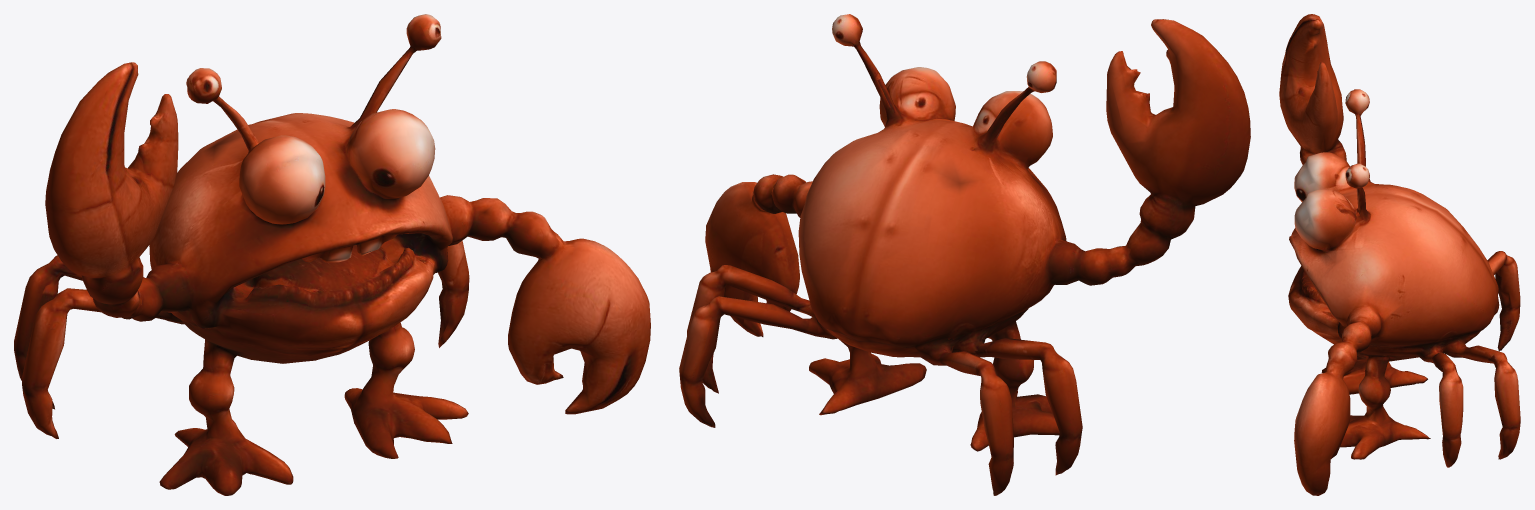
File: crab.glb
3 renders of one model, left to right at view 1: azimuth 30°, elevation 25°; view 2: azimuth 150°, elevation 25°; view 3: azimuth 270°, elevation 25°, orthographic. The views are drawn at different scales.
Visible parts, largest first — view 1: Mesh_0; view 2: Mesh_0; view 3: Mesh_0.
Part boxes in pixels (left/top/right/bottom): Mesh_0: left=14, top=14, right=650, bottom=495; Mesh_0: left=679, top=14, right=1250, bottom=495; Mesh_0: left=1279, top=14, right=1520, bottom=495.
Bounding box in the file's own units: 2 × 1.47 × 1.
Materials: 1 (1 with a texture image).
